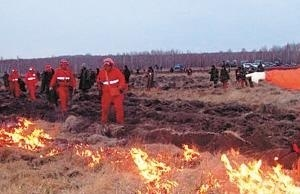fire: (0, 113, 57, 155), (127, 144, 176, 190), (74, 143, 103, 166), (181, 142, 199, 161)
